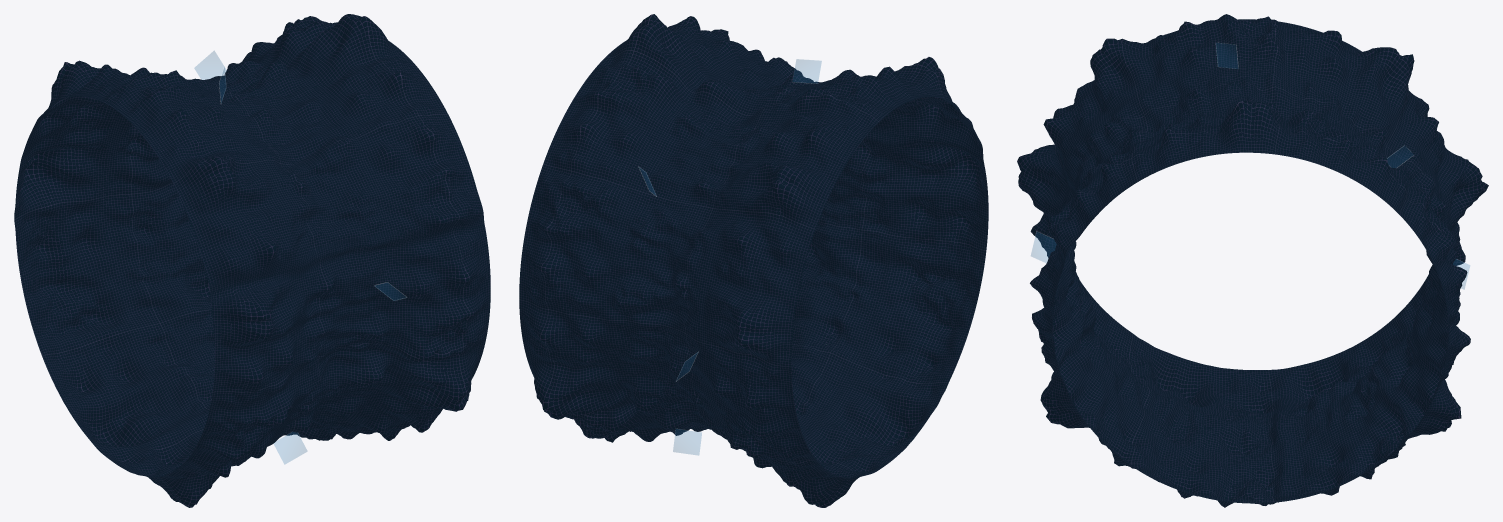
Rendered from mountains (4).glb.
3 views of the same model, side by side, from view 1: azimuth 30°, elevation 25°; view 2: azimuth 150°, elevation 25°; view 3: azimuth 270°, elevation 25° (orthographic).
Parts seen in each view (by area): view 1: mountains, pl 3.003, pl 3.005; view 2: mountains, pl 3.002, pl 3; view 3: mountains, pl 3.004.
Boxes of the visible parts, x1,y1,x2,y2 form: mountains: (14, 14, 490, 507); pl 3.003: (274, 432, 307, 464); pl 3.005: (194, 50, 226, 79); mountains: (519, 14, 988, 507); pl 3.002: (673, 429, 701, 455); pl 3: (793, 59, 821, 83); mountains: (1017, 14, 1488, 507); pl 3.004: (1031, 231, 1056, 262).
Bounding box in the file's own units: 24.36 × 35.25 × 36.36.
Materials: 3 (2 with a texture image).
